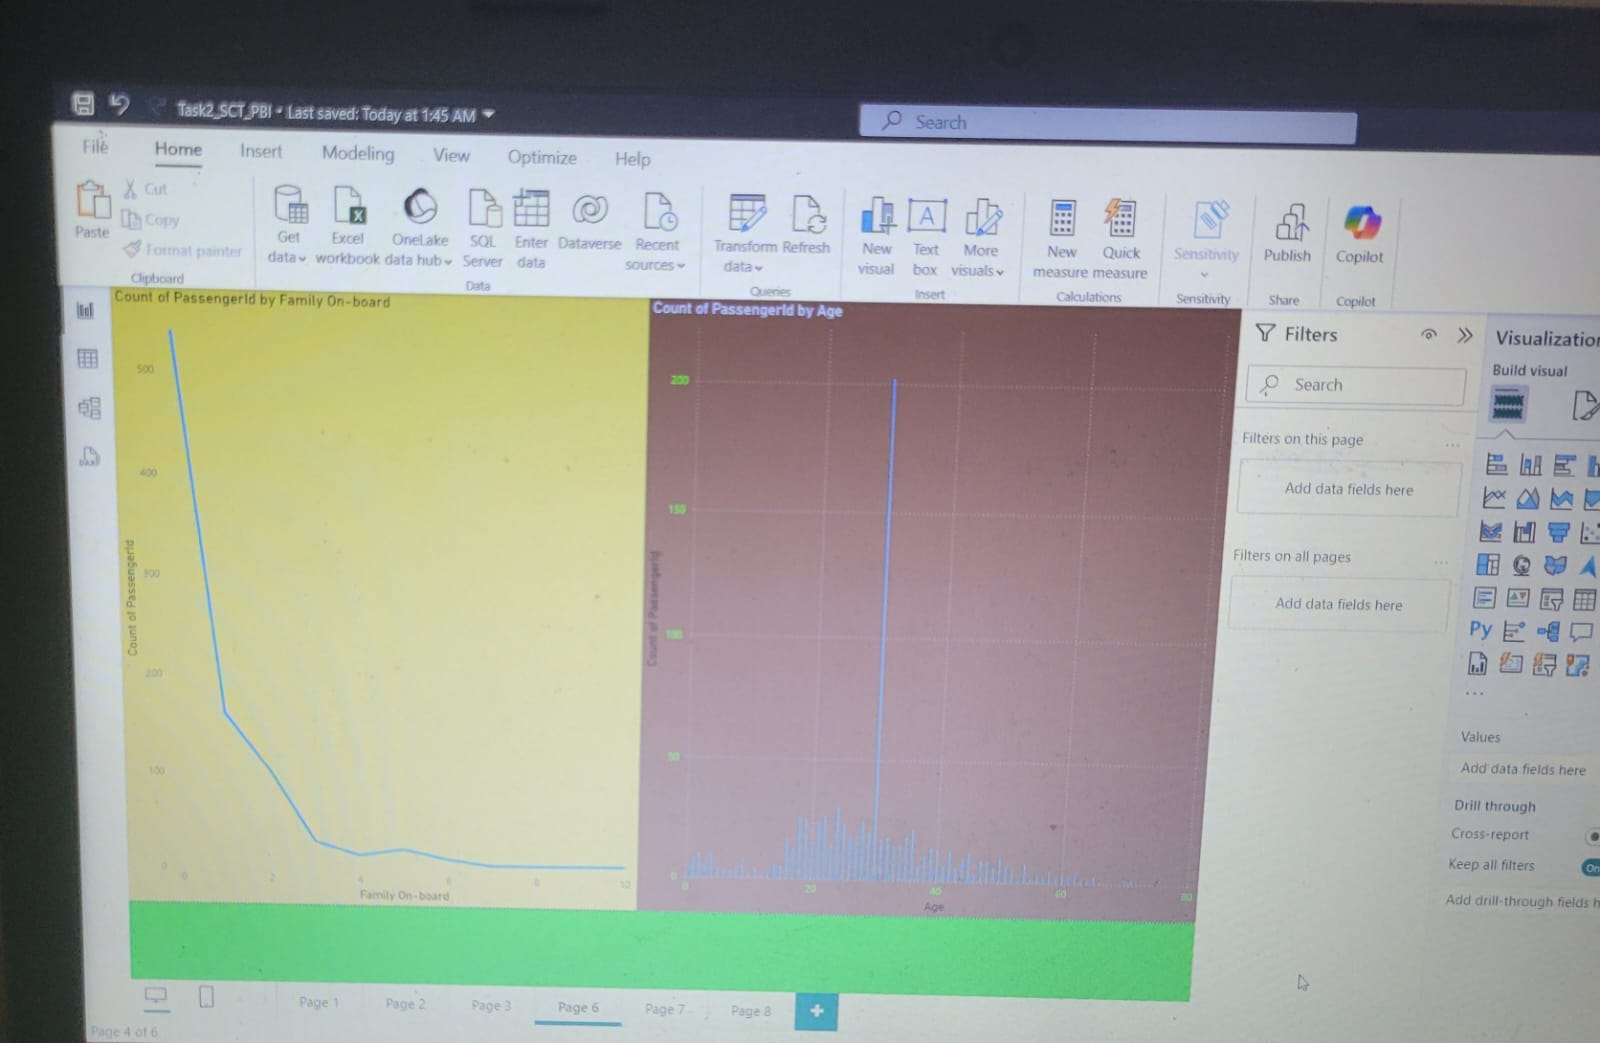

This screenshot's page, from the dashboard's own definition file:
{"tool":"powerbi","page":{"name":"Page 4","canvas":[1280,720],"ordinal":3},"visuals":[{"type":"lineChart","fields":{"Category":["train.Family On-board"],"Y":["CountNonNull(train.PassengerId)"]},"box":[0,0,610.6,720.4],"z":0},{"type":"clusteredColumnChart","fields":{"Y":["CountNonNull(train.PassengerId)"],"Category":["train.Age"]},"box":[610.6,0,669.6,720.4],"z":1000}]}

Visuals, with their boxes on the page's 1280x720 design canvas (x1, y1, x2, y2). These are canvas units, not pixel positions in the 1600x1043 screenshot, which may show the page scaled, cropped or inside an application window:
lineChart - train.Family On-board x CountNonNull(train.PassengerId): (0,0,611,720)
clusteredColumnChart - CountNonNull(train.PassengerId) x train.Age: (611,0,1280,720)
